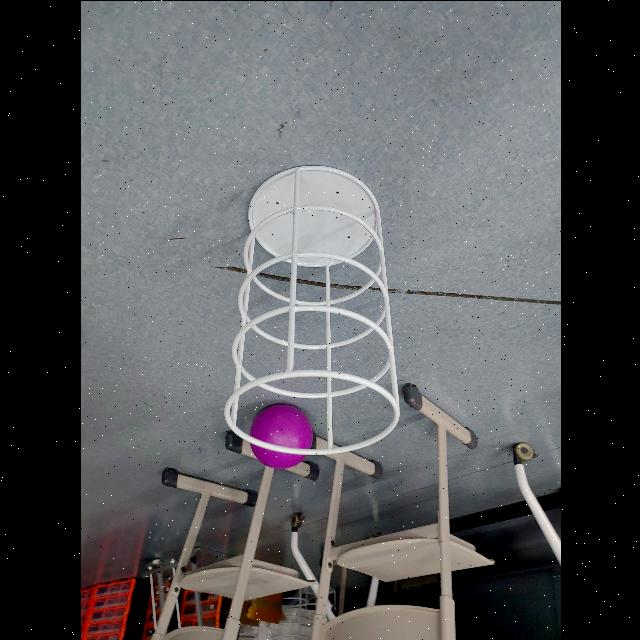S: (220, 160, 406, 458)
